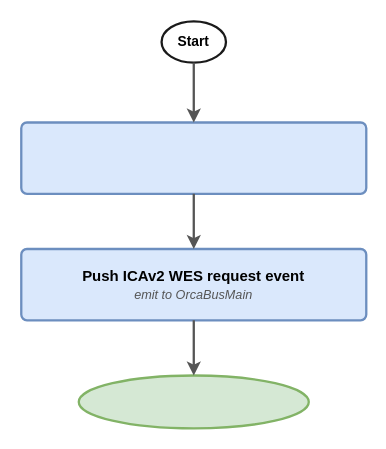
The diagram is 386 pixels wide and 449 high, and some of its shapes have lost their labels. The shapes that lost their labels are listed below. From the top down, each one's centre as x and y in pixels, then its label:
At pixel 193 157: "Convert READY event to ICAv2 WES format build CWL input payload".
At pixel 193 401: "Success".
